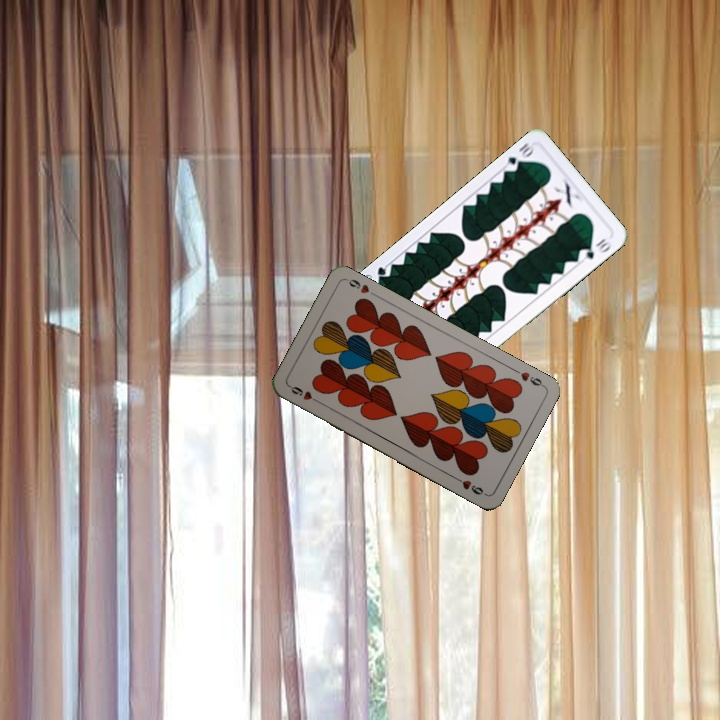G10: (500, 139, 538, 175)
H9: (509, 364, 546, 390), (285, 382, 323, 406)
